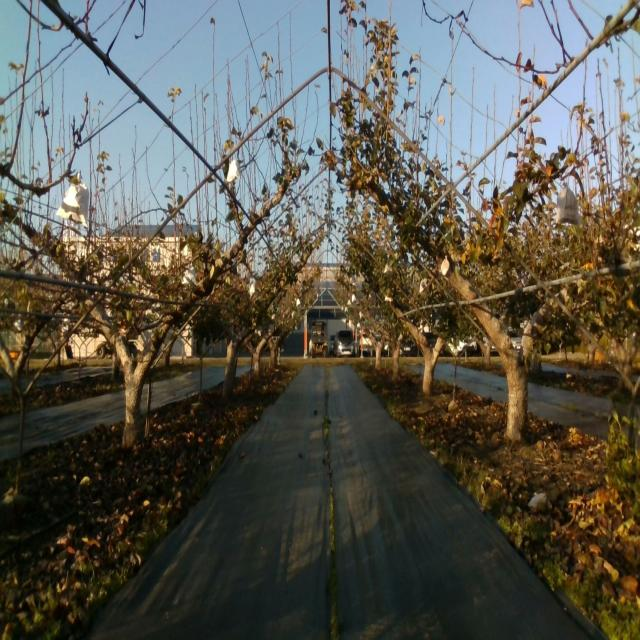pearbags: (56, 170, 89, 228), (554, 181, 581, 226), (227, 158, 240, 182), (182, 263, 196, 285), (440, 255, 450, 277)
